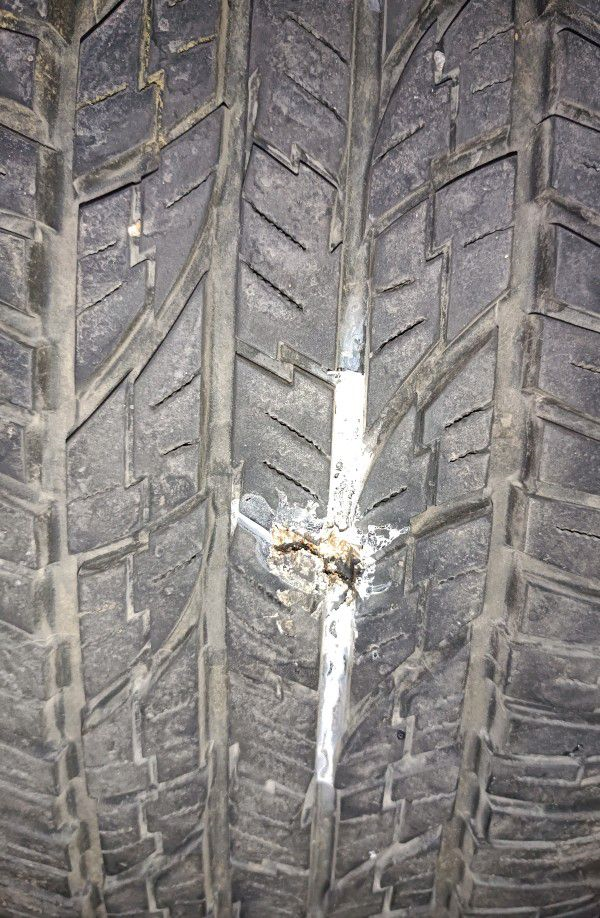tr: (258, 382, 379, 635)
